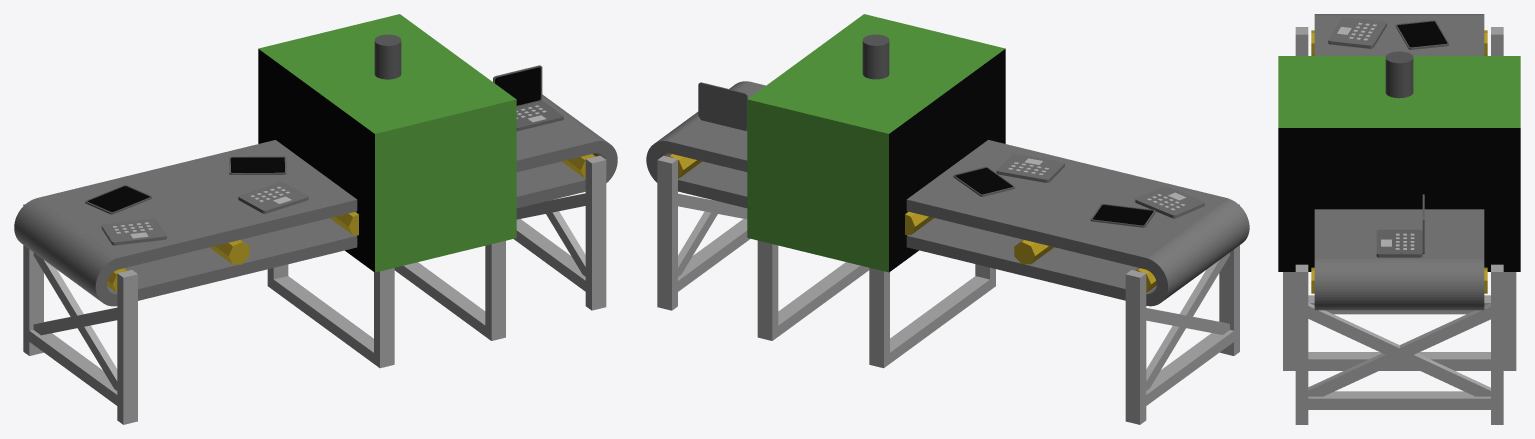
The model's file is general1.glb.
The picture shows the model from 3 angles, left to right: view 1: azimuth 30°, elevation 25°; view 2: azimuth 150°, elevation 25°; view 3: azimuth 270°, elevation 25°; orthographic projection. The views are drawn at different scales.
Visible parts, largest first — view 1: machine, belt_sup, machine.002, belt_inf.001, belt_end, foot2.001, foot2, foot3.002, computer1, foot3.003, foot2.002, foot2.005 (+14 smaller); view 2: machine, belt_sup, machine.002, belt_inf.001, belt_end, foot1, foot1.001, foot3.002, foot2.006, foot3.003, foot2.003, foot3 (+14 smaller); view 3: machine.001, machine, belt_sup, belt_start, foot3.001, foot4.001, foot5.001, foot3.003, foot2.001, foot1.001, computer1, keyboard1 (+8 smaller).
Boxes of the visible parts, bbox=[...] form: machine: bbox=[258, 14, 516, 272]; belt_sup: bbox=[36, 118, 595, 269]; machine.002: bbox=[258, 49, 374, 272]; belt_inf.001: bbox=[107, 161, 585, 300]; belt_end: bbox=[14, 198, 117, 306]; foot2.001: bbox=[585, 155, 606, 310]; foot2: bbox=[117, 270, 137, 424]; foot3.002: bbox=[273, 276, 373, 363]; computer1: bbox=[493, 65, 563, 131]; foot3.003: bbox=[394, 262, 485, 336]; foot2.002: bbox=[374, 268, 394, 368]; foot2.005: bbox=[485, 240, 505, 340]; machine: bbox=[747, 14, 1005, 272]; belt_sup: bbox=[668, 81, 1227, 269]; machine.002: bbox=[889, 49, 1005, 272]; belt_inf.001: bbox=[678, 161, 1156, 300]; belt_end: bbox=[1146, 198, 1249, 306]; foot1: bbox=[1125, 270, 1146, 424]; foot1.001: bbox=[657, 155, 677, 310]; foot3.002: bbox=[890, 276, 989, 363]; foot2.006: bbox=[757, 240, 778, 340]; foot3.003: bbox=[778, 262, 869, 336]; foot2.003: bbox=[869, 268, 889, 368]; foot3: bbox=[1146, 330, 1233, 405]; machine.001: bbox=[1278, 128, 1520, 271]; machine: bbox=[1278, 56, 1520, 127]; belt_sup: bbox=[1314, 16, 1484, 258]; belt_start: bbox=[1314, 258, 1484, 310]; foot3.001: bbox=[1307, 391, 1491, 409]; foot4.001: bbox=[1308, 303, 1490, 396]; foot5.001: bbox=[1308, 302, 1490, 396]; foot3.003: bbox=[1308, 352, 1490, 370]; foot2.001: bbox=[1295, 264, 1308, 424]; foot1.001: bbox=[1491, 264, 1503, 424]; computer1: bbox=[1376, 194, 1424, 257]; keyboard1: bbox=[1328, 17, 1386, 48].
Bounding box in the file's own units: 4.5 × 2.24 × 1.74.
